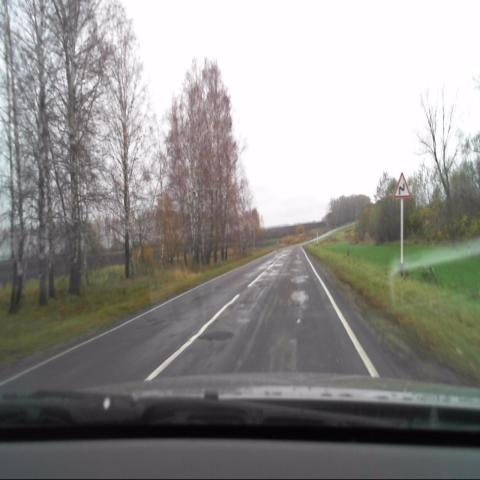1_12: (394, 169, 410, 196)
